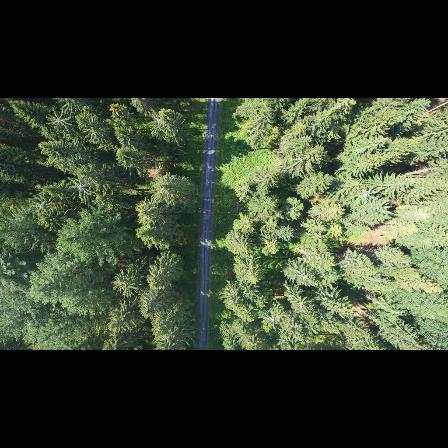Sick: (65, 173, 95, 202), (352, 181, 382, 208), (47, 109, 73, 134), (28, 193, 54, 217)
